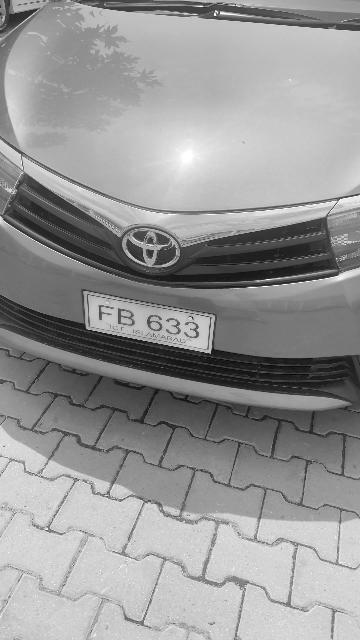Number: (95, 304, 204, 341)
